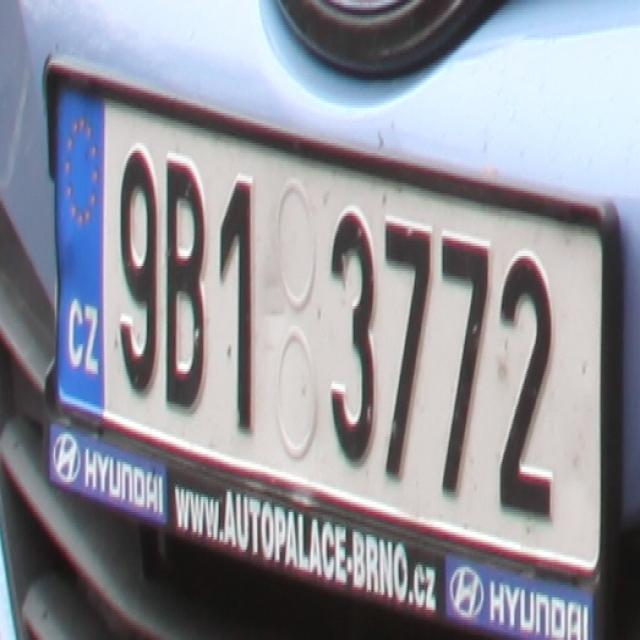1: (220, 173, 253, 442)
2: (502, 249, 553, 522)
3: (329, 206, 373, 472)
7: (380, 216, 430, 487), (439, 231, 488, 499)
9: (116, 146, 158, 392)
B: (163, 160, 208, 412)
